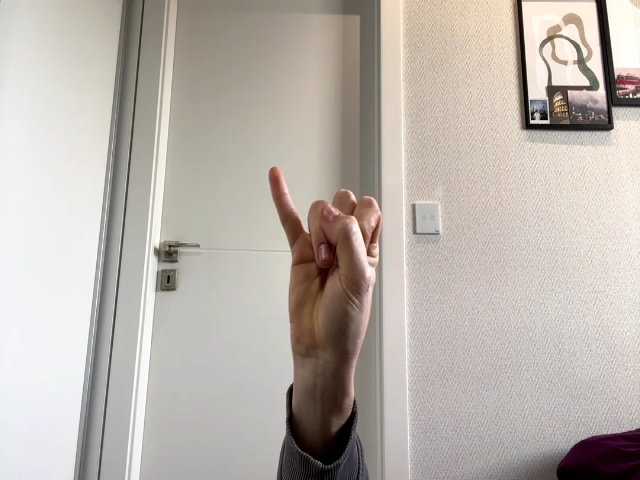I: (269, 167, 381, 362)
